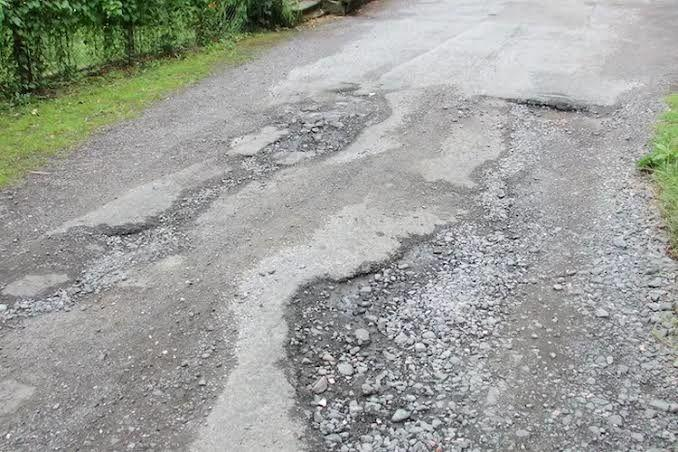Pothole: (279, 53, 678, 452), (0, 69, 400, 324)
